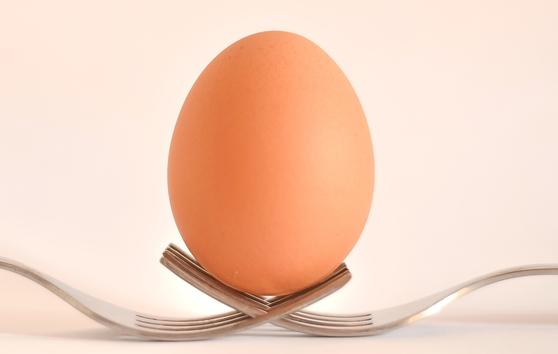egg: (163, 30, 374, 286)
